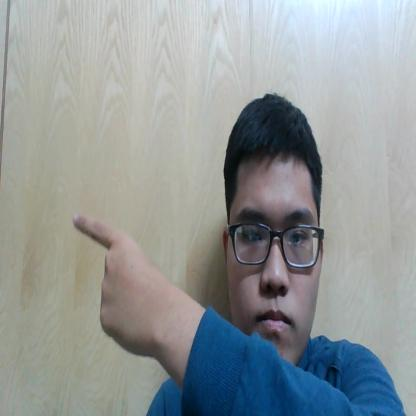right: (53, 200, 178, 371)
